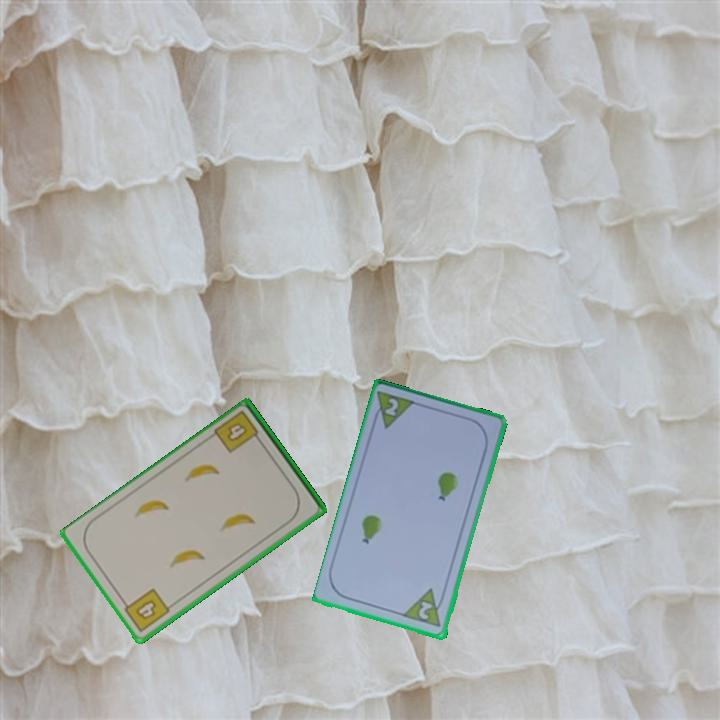2p: (369, 388, 419, 433), (415, 598, 436, 623)
4b: (118, 585, 173, 635), (211, 407, 265, 456)
